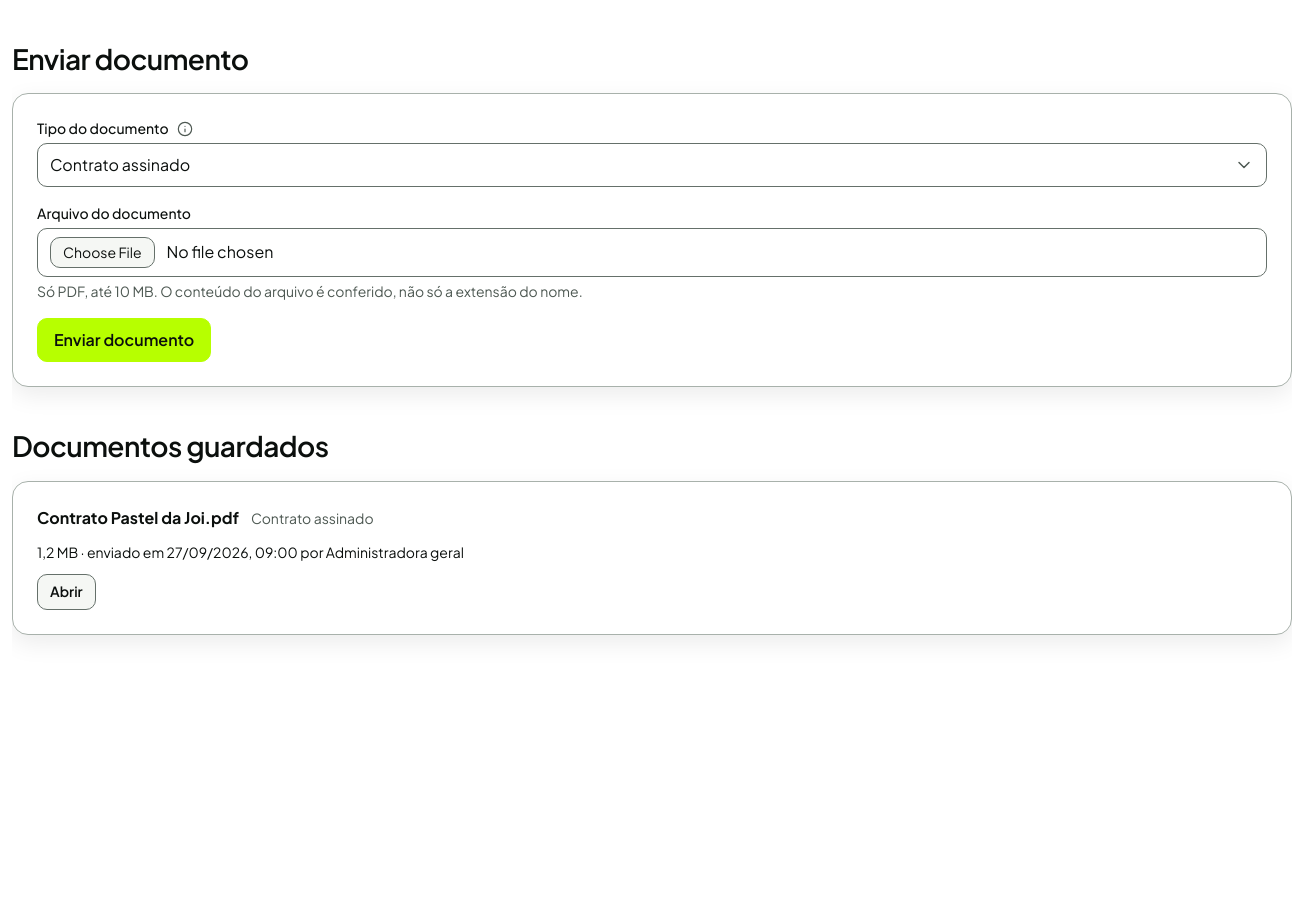
documento anexado nunca fica público (AC-205) › @spec:AC-205 link vencido ou sessão sem acesso não entregam o arquivo e dizem o que fazer
Click the button "Abrir": (66, 592) [37,574,96,610]
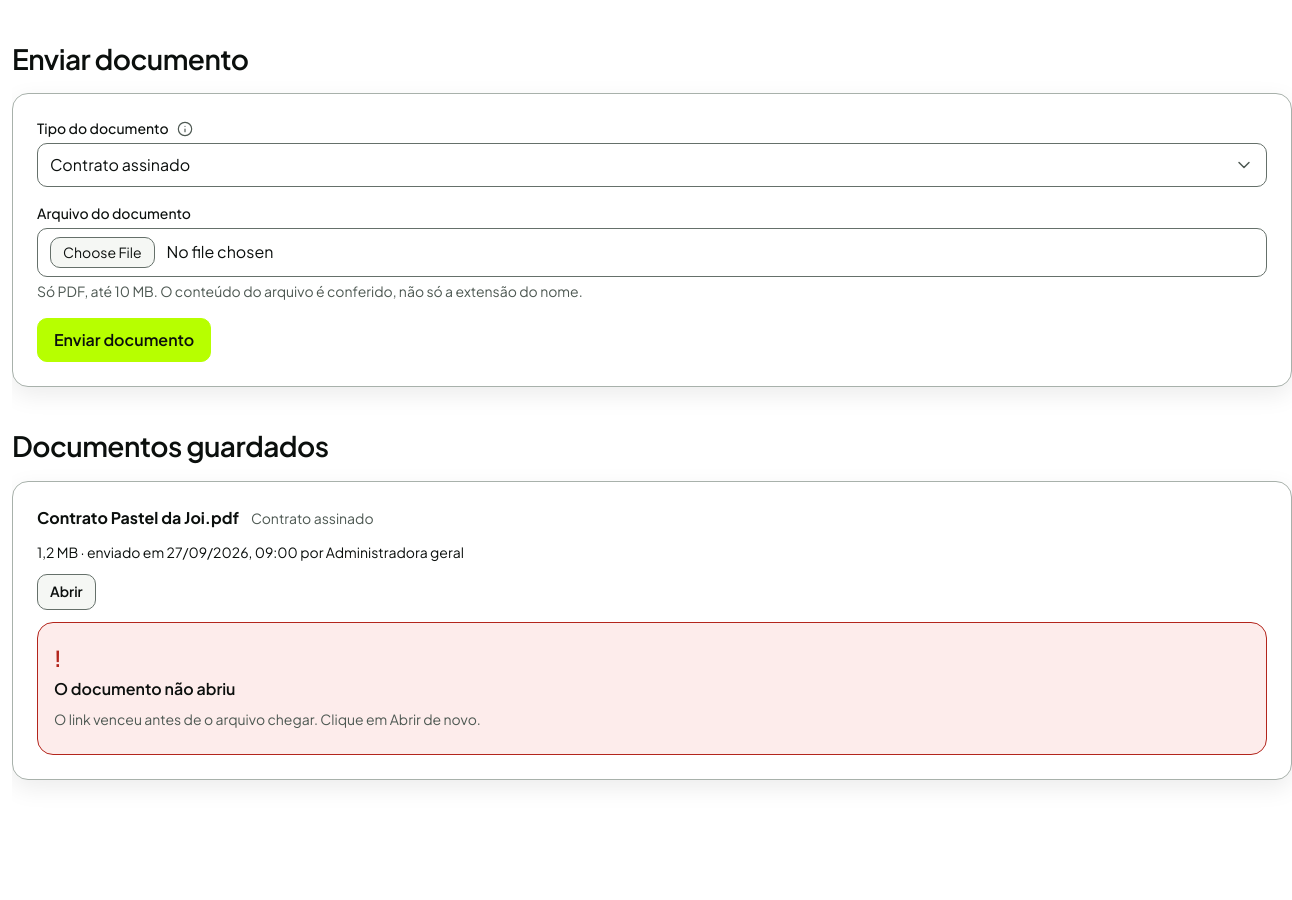
Expected: the message shows "O link venceu", [54,710,481,728]
Click the button "Abrir": (66, 592) [37,574,96,610]
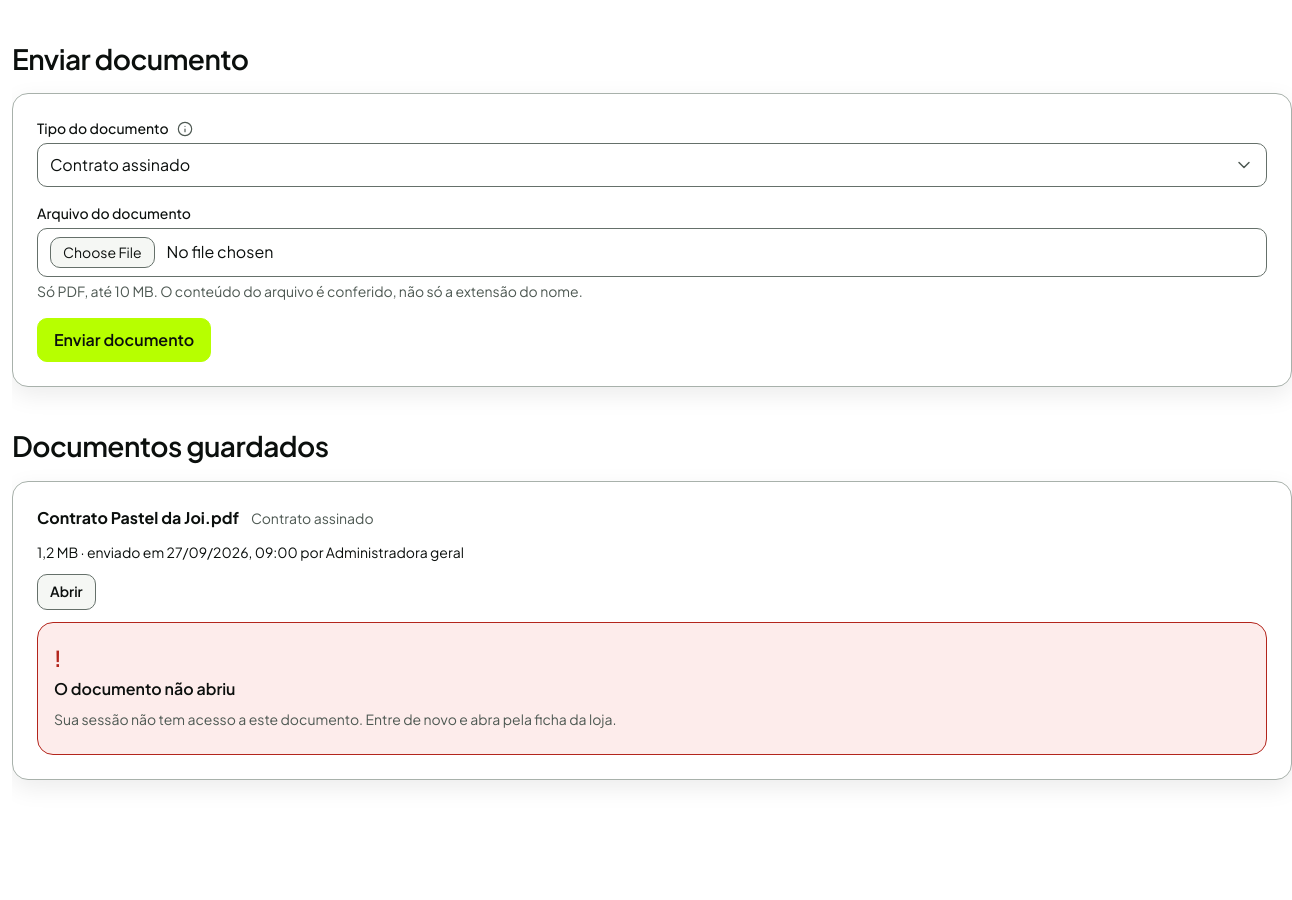
Expected: the message shows "Sua sessão não tem acesso a este documento", [54,710,616,728]
